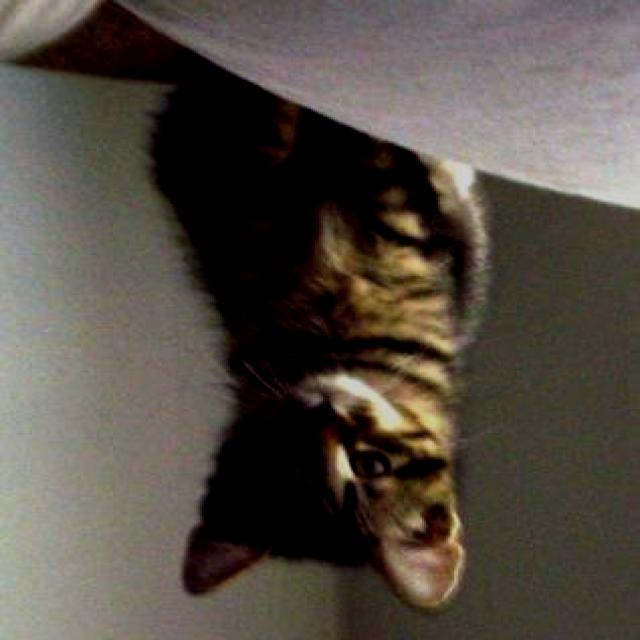Kucing: (80, 69, 570, 626)
